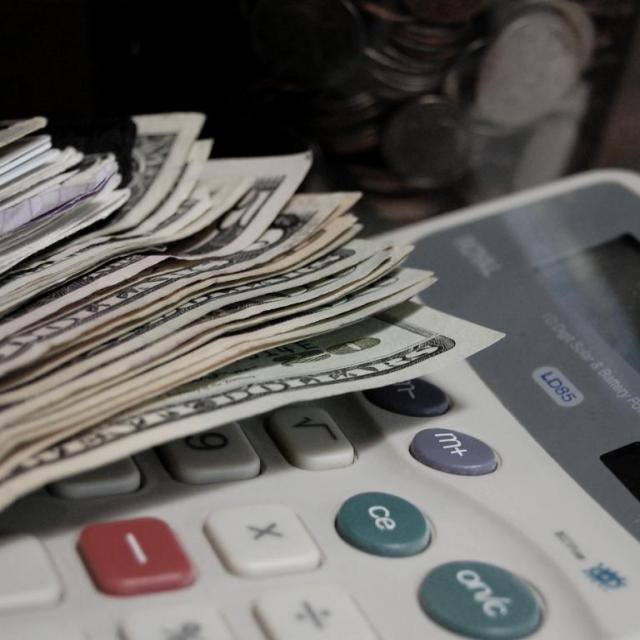Calculator: (0, 167, 640, 640)
